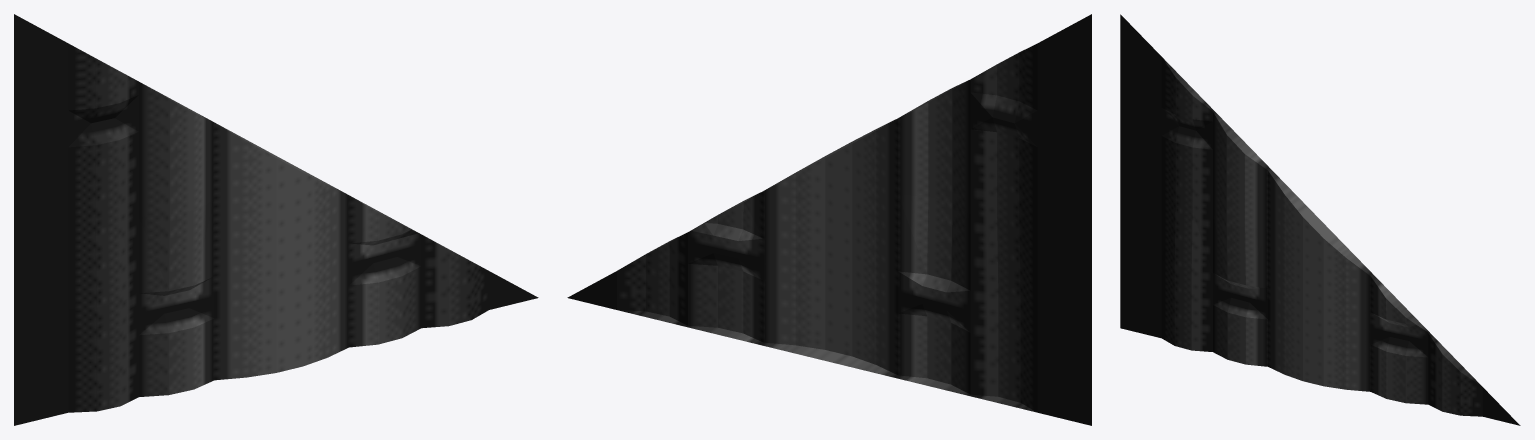
The model's file is stor1_6_slice192lh.fbx.
The picture shows the model from 3 angles, left to right: view 1: azimuth 30°, elevation 25°; view 2: azimuth 150°, elevation 25°; view 3: azimuth 330°, elevation 25°; orthographic projection. The views are drawn at different scales.
Visible parts, largest first — view 1: stor1_6_mesh; view 2: stor1_6_mesh; view 3: stor1_6_mesh.
Boxes of the visible parts, x1,y1,x2,y2 form: stor1_6_mesh: (14, 14, 538, 425); stor1_6_mesh: (567, 14, 1091, 425); stor1_6_mesh: (1120, 14, 1520, 425).
Size of the model in its own units: 256 by 192 by 9.54.
